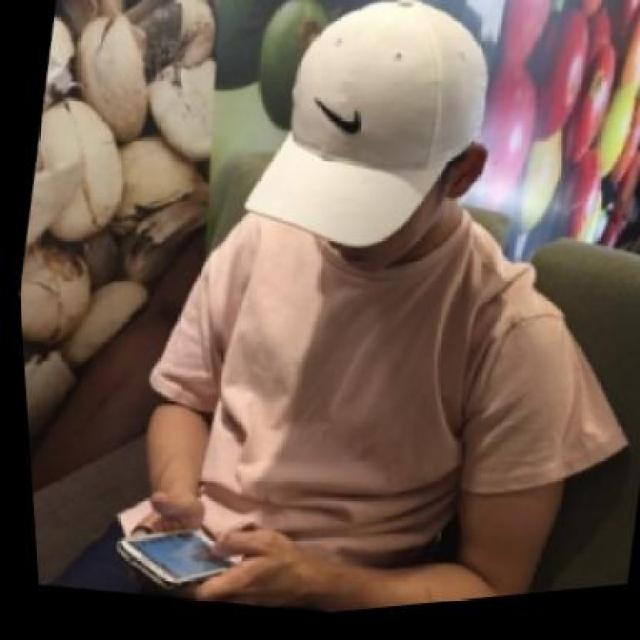hat: (218, 0, 504, 283)
